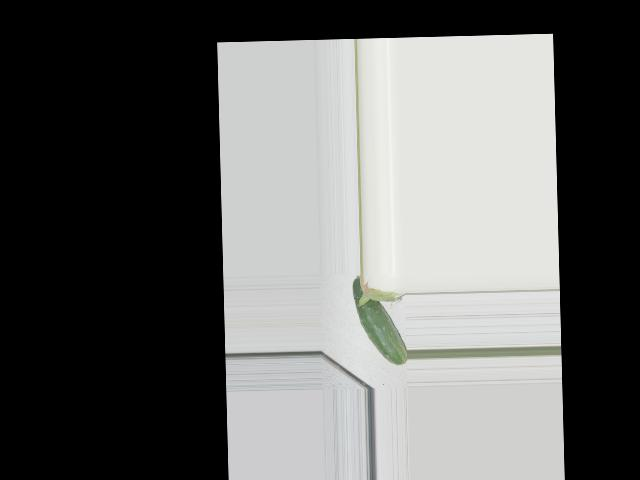cucumber: (352, 274, 407, 366)
